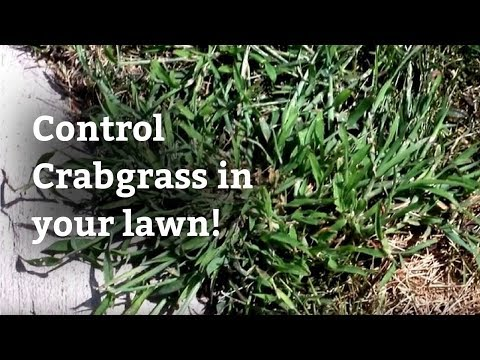crabgrass: (108, 70, 432, 285)
